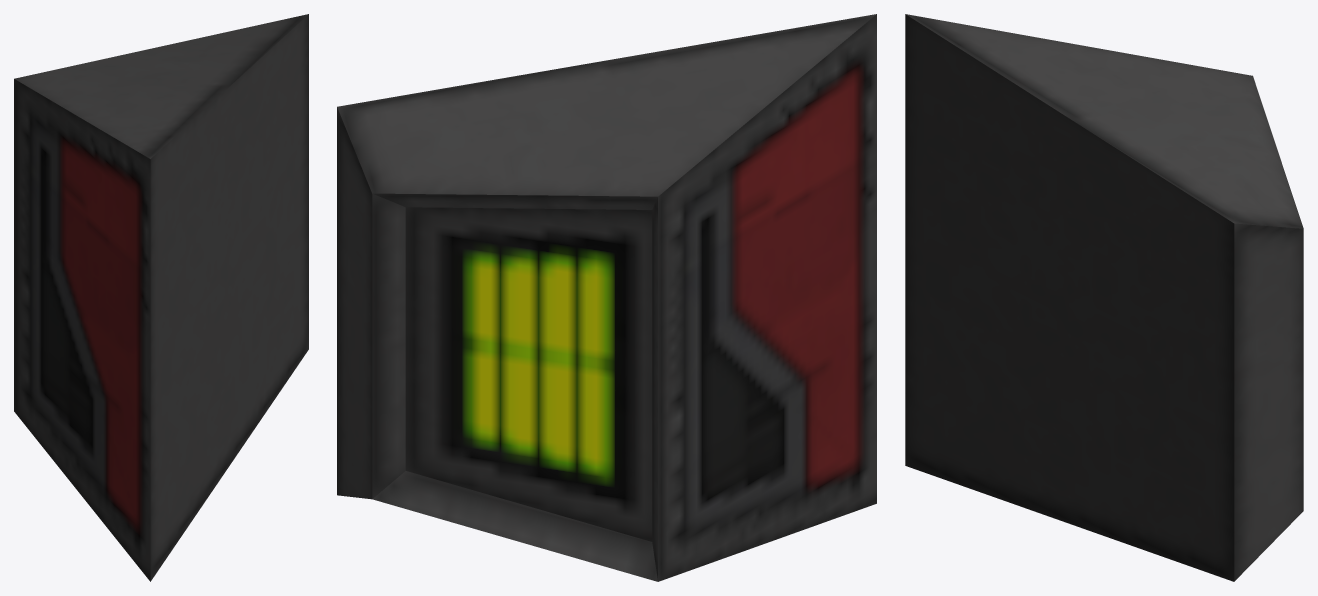
Rendered from BFP_HugeEngineRear_Left.FBX.
The picture shows the model from 3 angles, left to right: view 1: azimuth 30°, elevation 25°; view 2: azimuth 150°, elevation 25°; view 3: azimuth 270°, elevation 25°; orthographic projection. The views are drawn at different scales.
Visible parts, largest first — view 1: BFP_HugeEngineRear_Left; view 2: BFP_HugeEngineRear_Left; view 3: BFP_HugeEngineRear_Left.
Part boxes in pixels (box(x1,y1,x2,y2)): BFP_HugeEngineRear_Left: box(14, 14, 308, 581); BFP_HugeEngineRear_Left: box(337, 14, 876, 581); BFP_HugeEngineRear_Left: box(905, 14, 1303, 581).
Size of the model in its own units: 280 by 362 by 290.
Materials: 1 (1 with a texture image).
